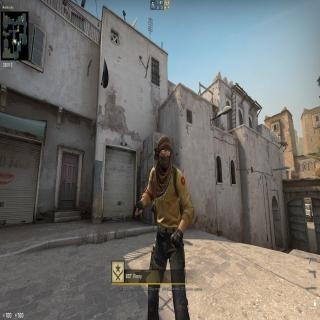T-Head: (154, 133, 173, 173)
